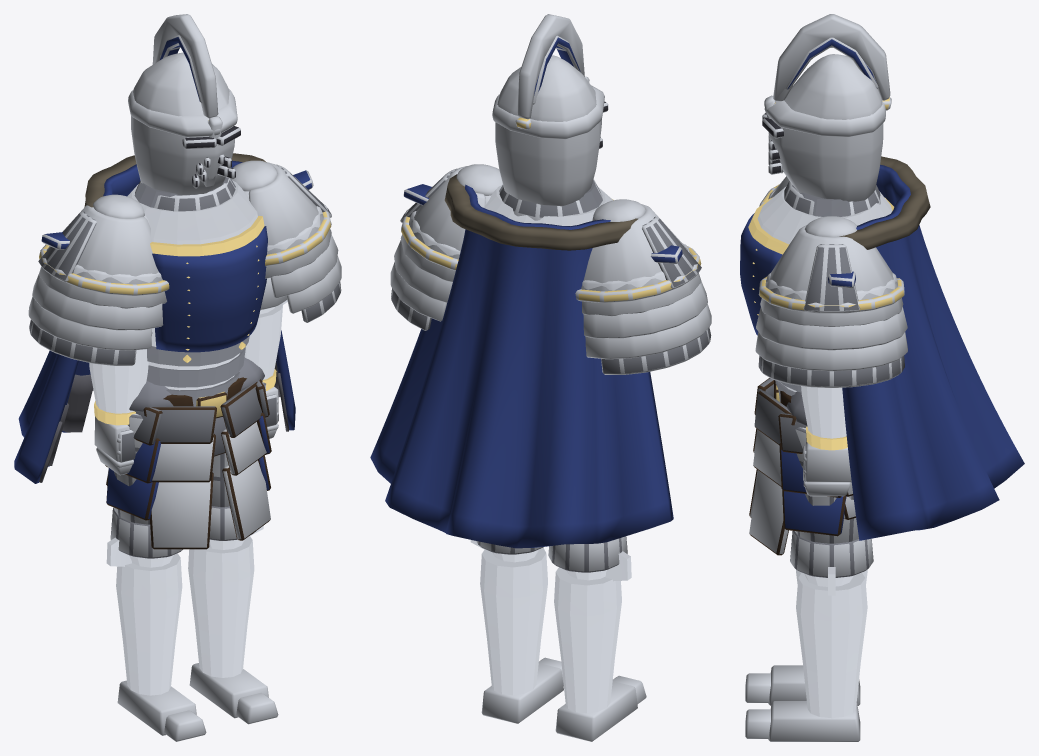
The model's file is knight_warden_heavy.glb.
3 views of the same model, side by side, from view 1: azimuth 30°, elevation 25°; view 2: azimuth 150°, elevation 25°; view 3: azimuth 270°, elevation 25° (orthographic). The views are drawn at different scales.
Parts seen in each view (by area): view 1: M_Torso, M_Hips, M_ArmR_Upper, M_Head, M_ArmL_Upper, M_Cloak, M_LegR_Lower, M_LegL_Lower, M_LegR_Upper, M_FootL, M_FootR, M_ArmR_Lower (+4 smaller); view 2: M_Cloak, M_ArmR_Upper, M_Head, M_ArmL_Upper, M_LegR_Lower, M_LegL_Lower, M_FootR, M_FootL, M_LegR_Upper, M_Torso; view 3: M_Cloak, M_ArmL_Upper, M_Head, M_Hips, M_LegL_Lower, M_Torso, M_LegL_Upper, M_FootL, M_ArmL_Lower, M_HandL, M_FootR.
Part boxes in pixels (x1=…): M_Torso: x1=127, y1=177, x2=267, y2=406; M_Hips: x1=105, y1=377, x2=271, y2=549; M_ArmR_Upper: x1=28, y1=194, x2=169, y2=365; M_Head: x1=128, y1=14, x2=240, y2=211; M_ArmL_Upper: x1=231, y1=160, x2=341, y2=322; M_Cloak: x1=14, y1=153, x2=295, y2=483; M_LegR_Lower: x1=106, y1=537, x2=182, y2=695; M_LegL_Lower: x1=188, y1=526, x2=263, y2=677; M_LegR_Upper: x1=110, y1=381, x2=182, y2=558; M_FootL: x1=189, y1=663, x2=278, y2=724; M_FootR: x1=117, y1=680, x2=206, y2=741; M_ArmR_Lower: x1=89, y1=349, x2=148, y2=425; M_Cloak: x1=370, y1=174, x2=673, y2=548; M_ArmR_Upper: x1=575, y1=199, x2=711, y2=374; M_Head: x1=492, y1=14, x2=608, y2=220; M_ArmL_Upper: x1=390, y1=164, x2=502, y2=330; M_LegR_Lower: x1=554, y1=551, x2=631, y2=713; M_LegL_Lower: x1=470, y1=540, x2=547, y2=695; M_FootR: x1=555, y1=675, x2=646, y2=741; M_FootL: x1=481, y1=657, x2=563, y2=723; M_LegR_Upper: x1=548, y1=536, x2=627, y2=572; M_Torso: x1=484, y1=180, x2=613, y2=225; M_Cloak: x1=839, y1=156, x2=1024, y2=540; M_ArmL_Upper: x1=755, y1=216, x2=907, y2=387; M_Head: x1=762, y1=14, x2=891, y2=214; M_Hips: x1=749, y1=378, x2=855, y2=555; M_LegL_Lower: x1=796, y1=567, x2=867, y2=718; M_Torso: x1=740, y1=186, x2=894, y2=401; M_LegL_Upper: x1=786, y1=391, x2=873, y2=577; M_FootL: x1=745, y1=701, x2=860, y2=741; M_ArmL_Lower: x1=801, y1=386, x2=847, y2=450; M_HandL: x1=803, y1=443, x2=851, y2=496; M_FootR: x1=745, y1=665, x2=860, y2=705.
Size of the model in its own units: 0.8979 by 2 by 0.7378.
